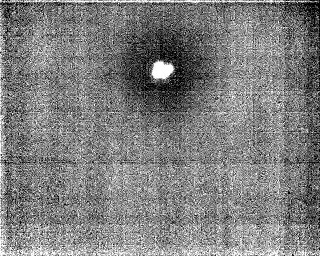AIRPLANE: (148, 56, 176, 84)
